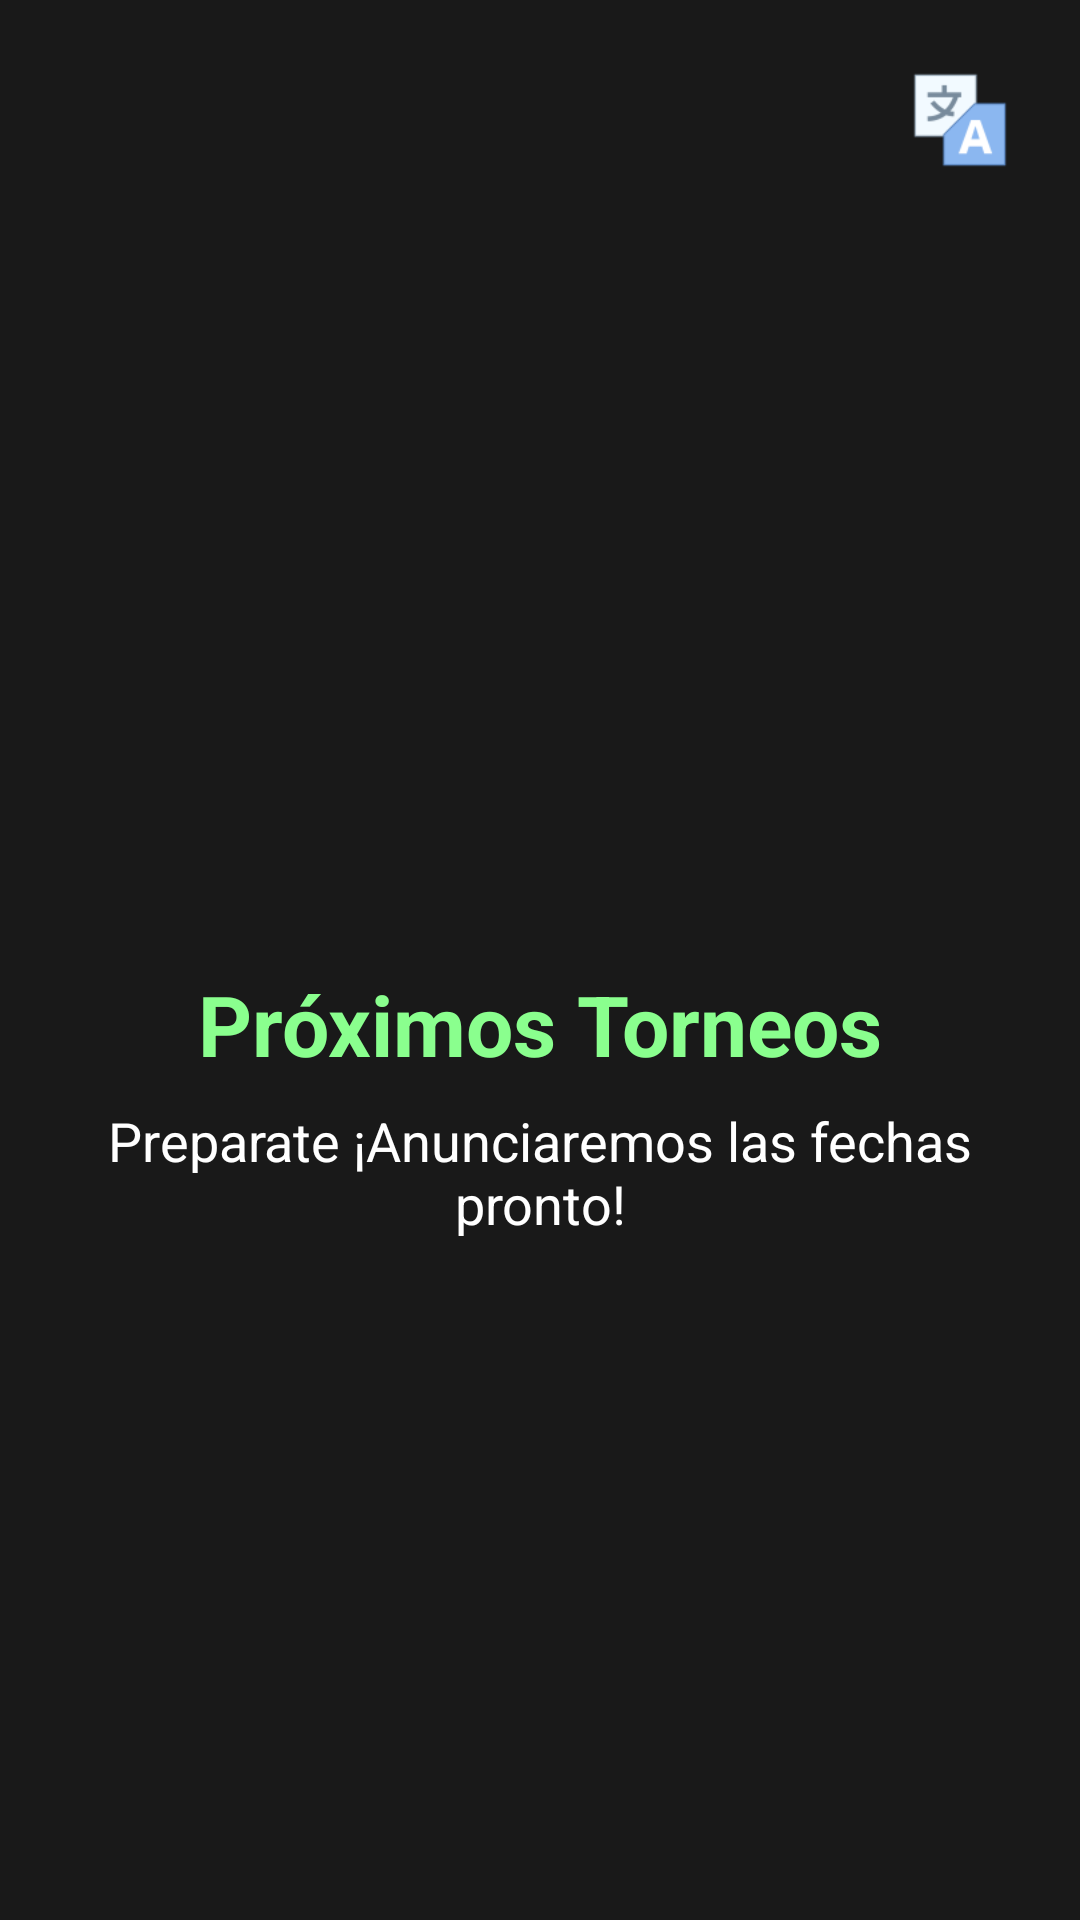

Icon bounding boxes for this 1080x1920 phone screenshot, format [x1,y1,x2,y2]:
Change Language: [914,74,1006,166]
